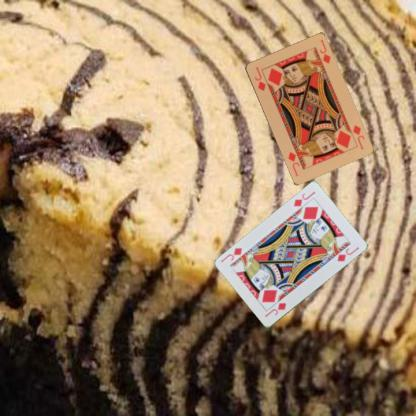Jd: (290, 189, 316, 208), (262, 300, 288, 318), (251, 64, 267, 92), (350, 123, 366, 150)
